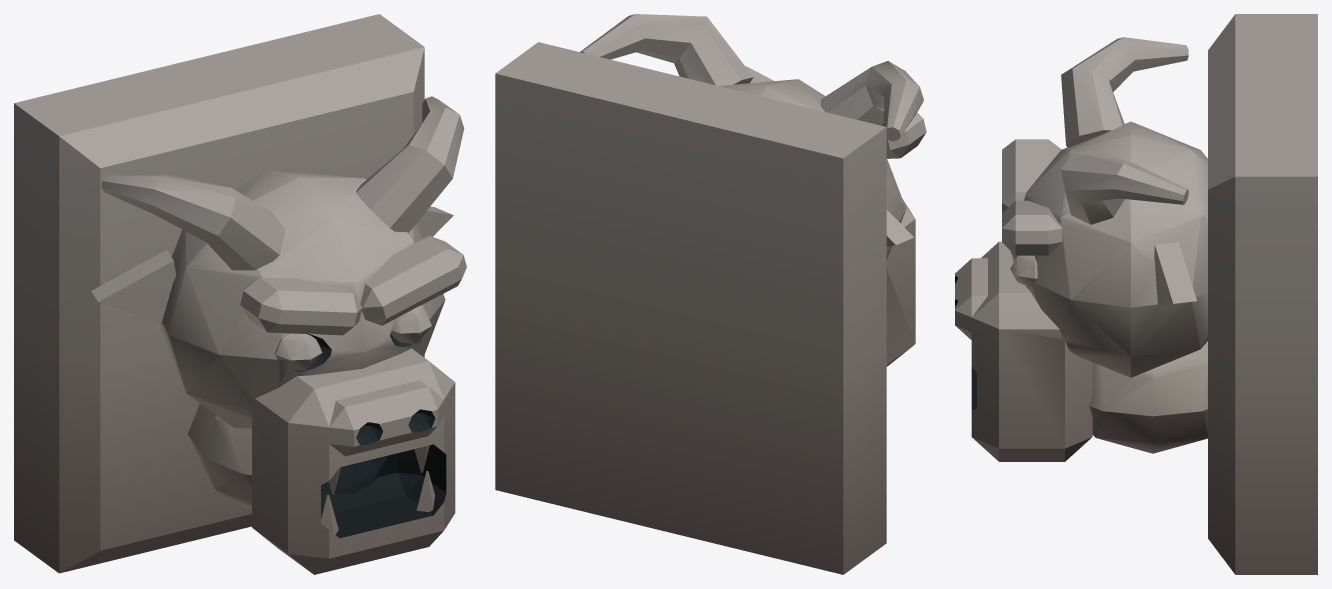
File: gargoyle_head.glb
3 renders of one model, left to right at view 1: azimuth 30°, elevation 25°; view 2: azimuth 150°, elevation 25°; view 3: azimuth 270°, elevation 25°, orthographic. The views are drawn at different scales.
Visible parts, largest first — view 1: gargoyle_head; view 2: gargoyle_head; view 3: gargoyle_head.
Part boxes in pixels (x1,y1,x2,y2): gargoyle_head: (14,14,466,574); gargoyle_head: (495,14,926,574); gargoyle_head: (955,14,1317,574).
Bounding box in the file's own units: 0.7 × 0.8 × 0.66.
Materials: 1 (1 with a texture image).
